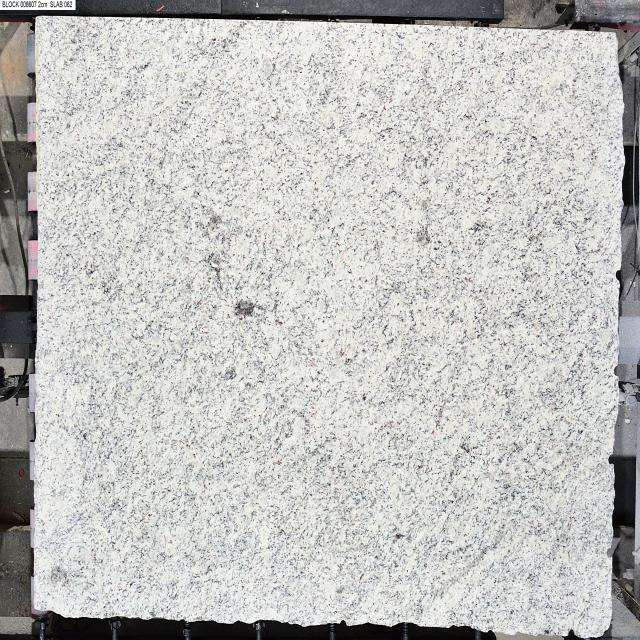chapa: (35, 16, 624, 636)
veio: (567, 628, 576, 639), (616, 268, 622, 282), (608, 452, 614, 466), (606, 546, 612, 558)
